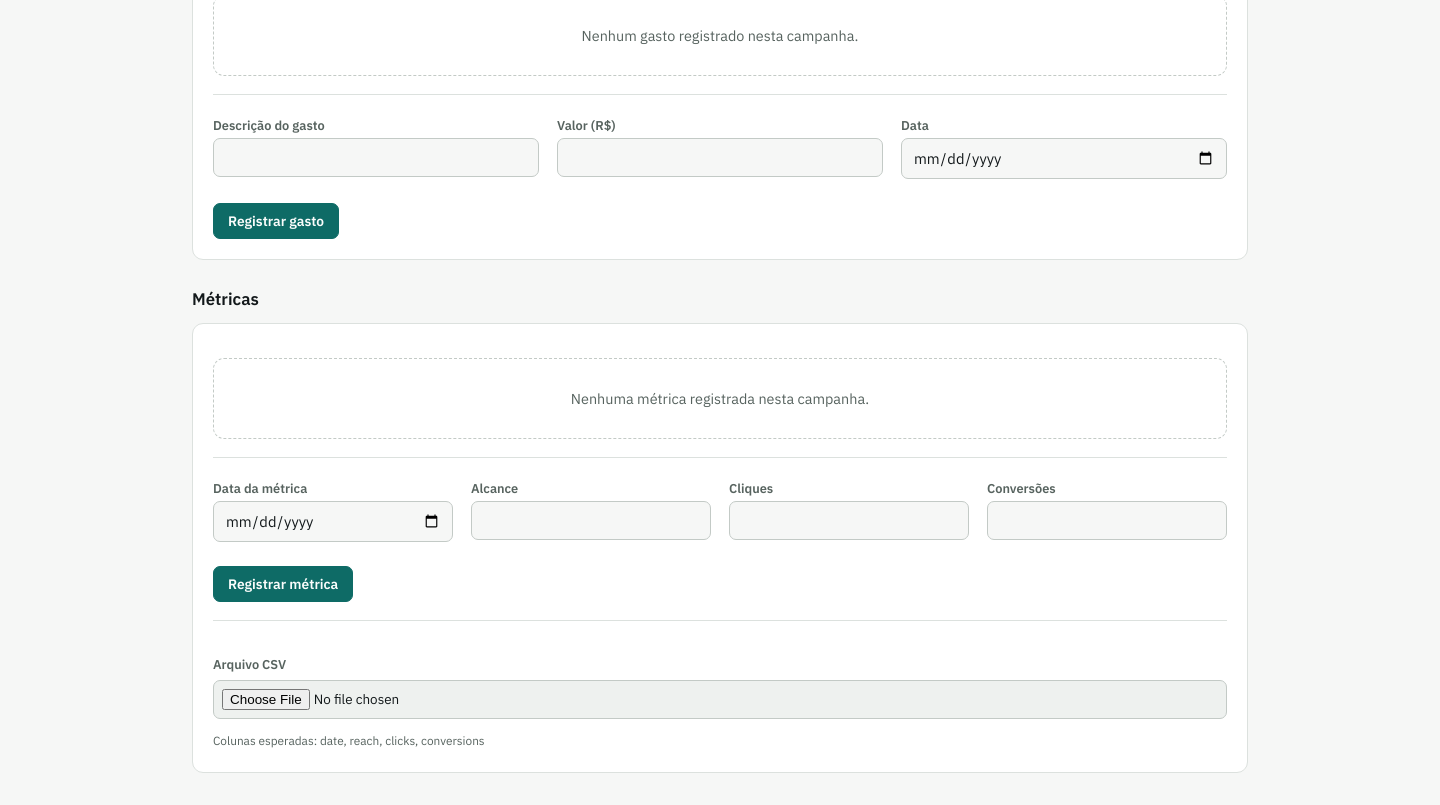
Scenario: CampaignDetailPage - métricas (RF06) › registra uma métrica manualmente e exibe na lista
The image size is (1440, 805).
(page scrolled)
Step 1. Type "2026-01-10" into the date field labelled "Data da métrica" → (333, 521), box [213,500,453,542]
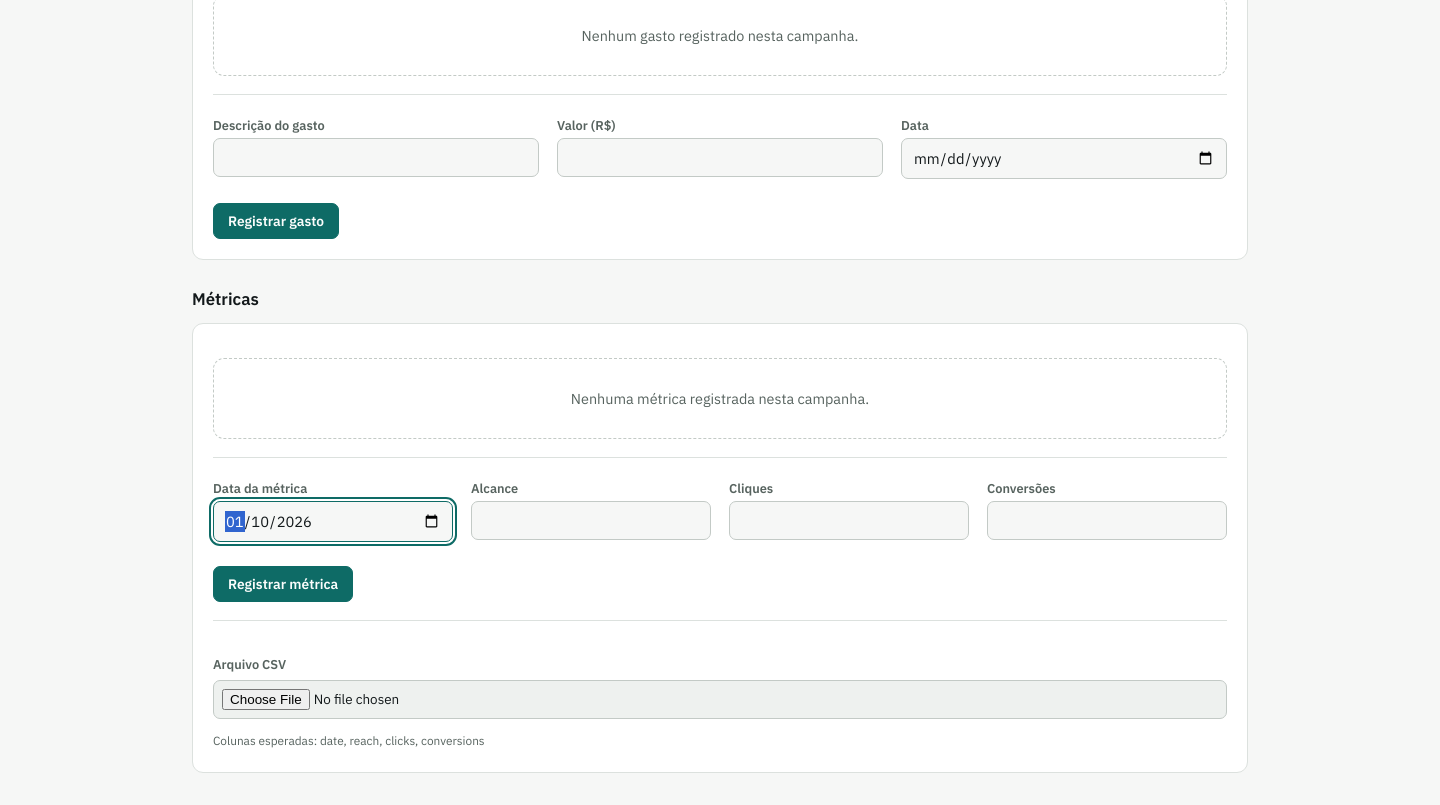
Step 2. Type "1000" into the number field labelled "Alcance" → (591, 520), box [471,500,711,540]
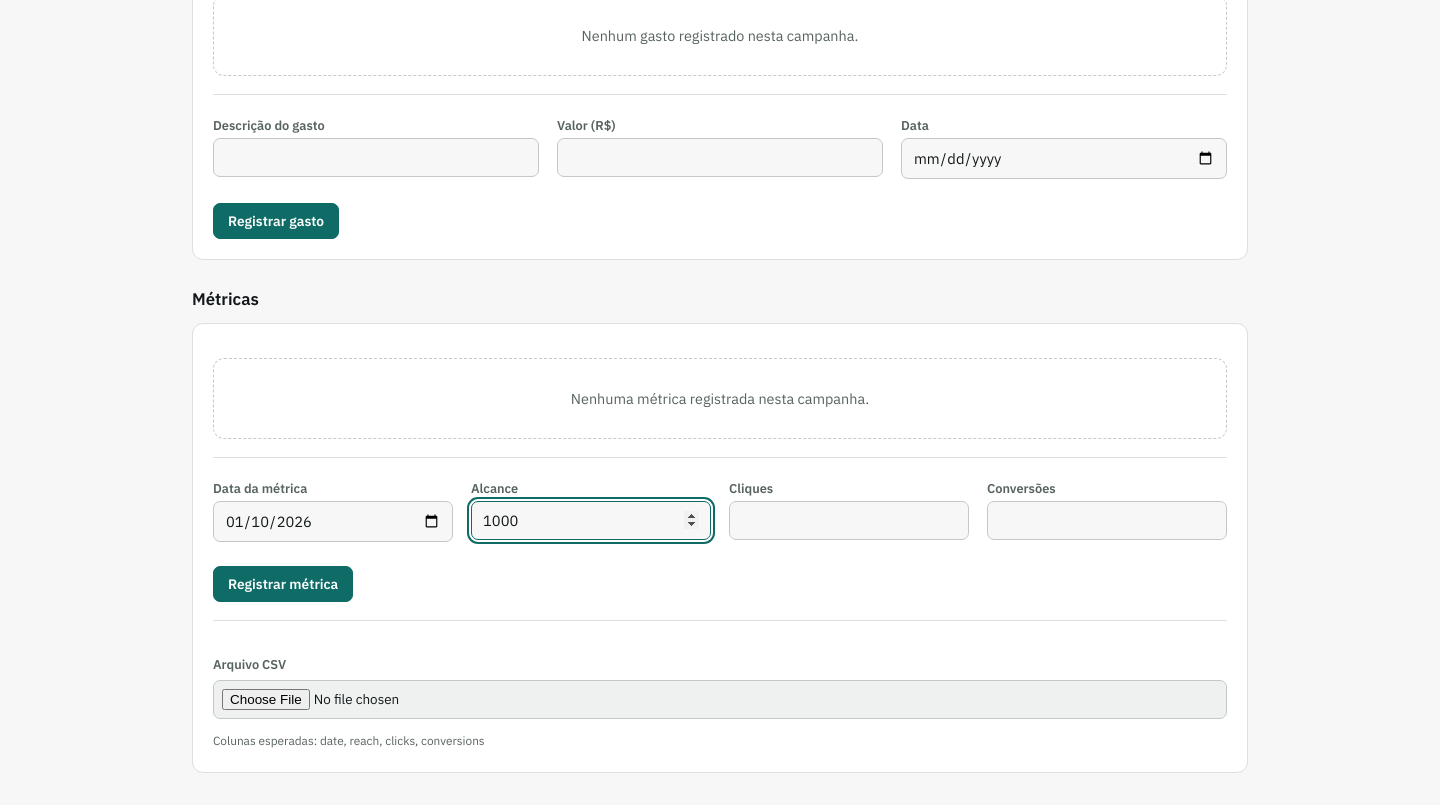
Step 3. Type "80" into the number field labelled "Cliques" → (849, 520), box [729,500,969,540]
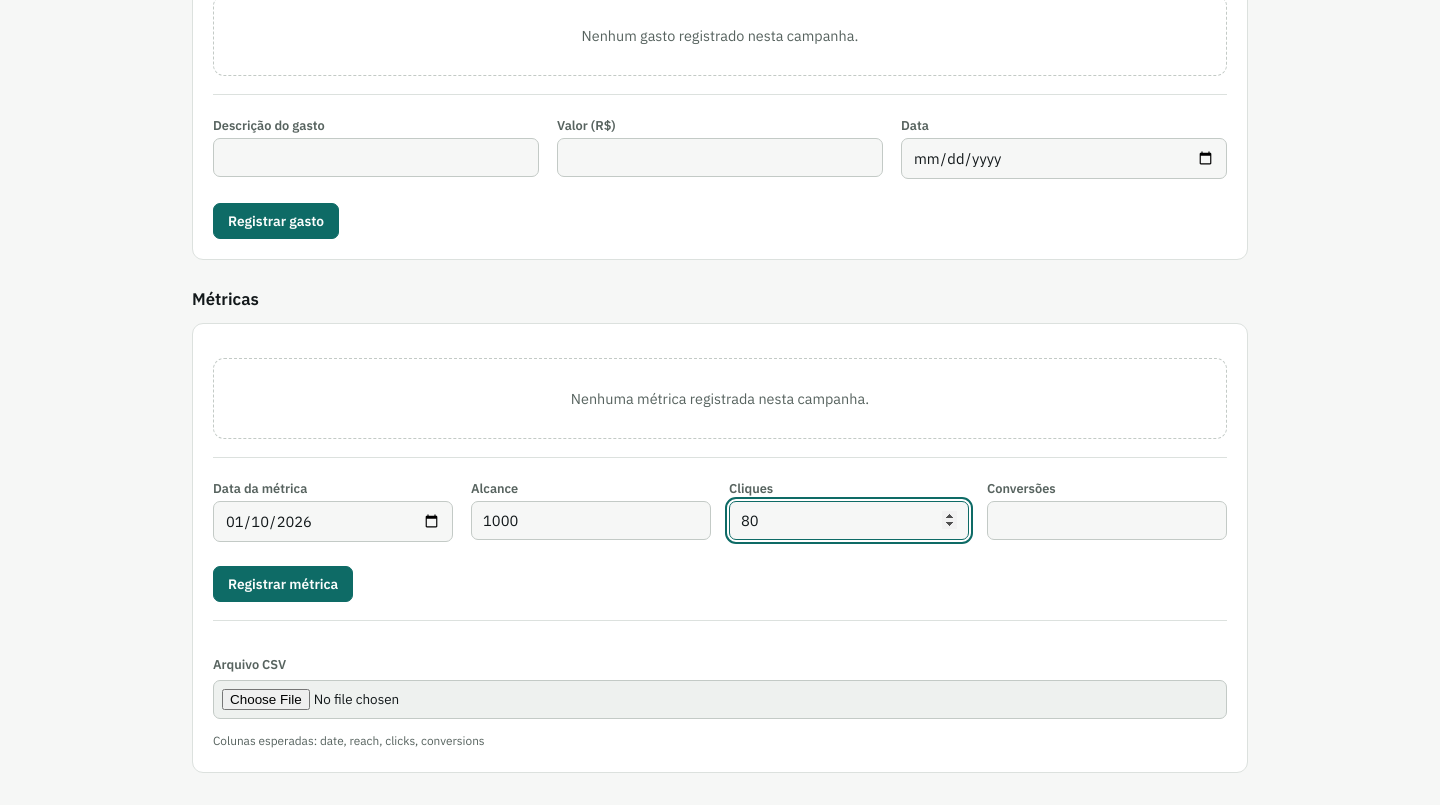
Step 4. Type "10" into the number field labelled "Conversões" → (1107, 520), box [987,500,1227,540]
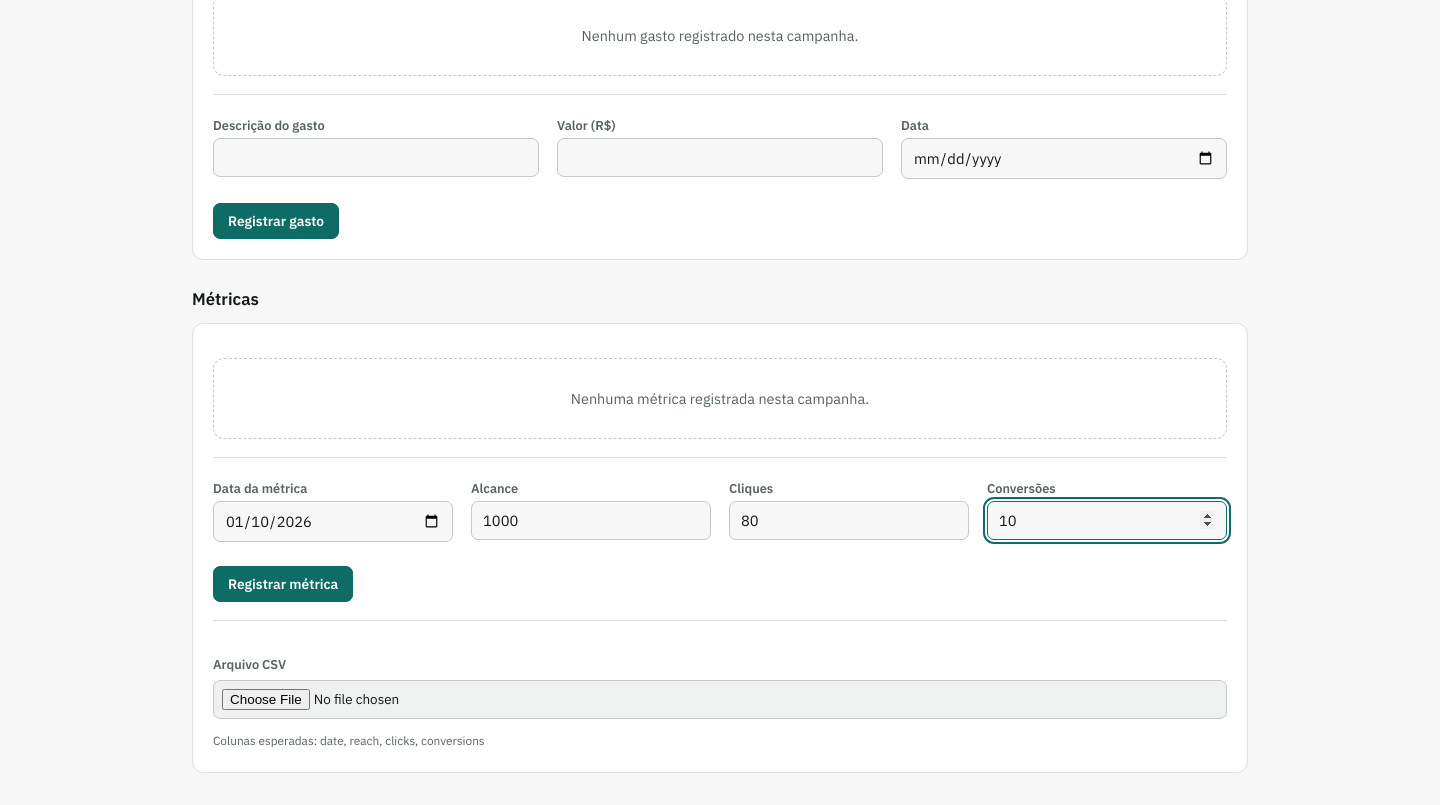
Step 5. Click the button "Registrar métrica" → (283, 584), box [213,566,353,602]
(page scrolled)
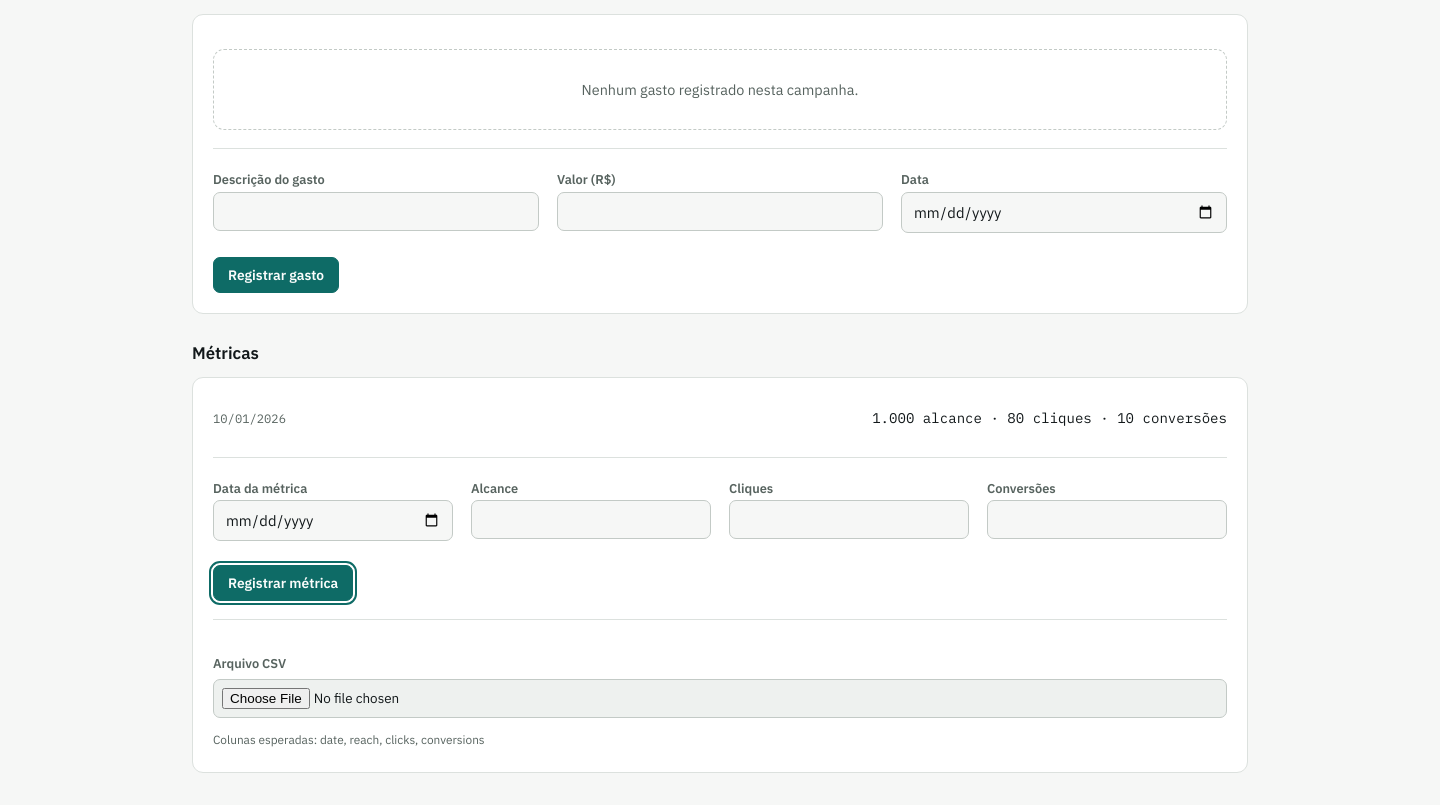
Result: the text "10/01/2026" is shown at [213,407,286,430]
Result: the text "1.000 alcance · 80 cliques · 10 conversões" is shown at [872,407,1227,430]
